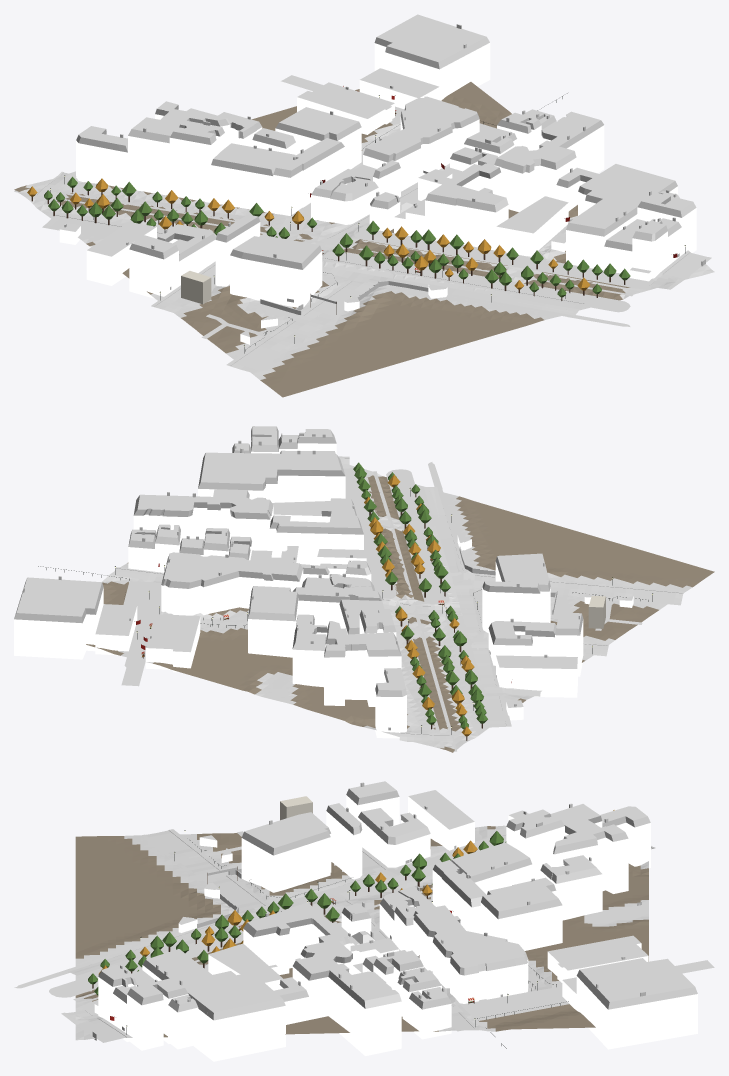
Rendered from zone_I1.glb.
3 renders of one model, top to bottom at view 1: azimuth 30°, elevation 25°; view 2: azimuth 150°, elevation 25°; view 3: azimuth 270°, elevation 25°, orthographic. The views are drawn at different scales.
Visible parts, largest first — view 1: zone_I1_batiments, zone_I1_terrain, zone_I1_sol_NOCOL, zone_I1_decor_NOCOL; view 2: zone_I1_batiments, zone_I1_terrain, zone_I1_sol_NOCOL, zone_I1_decor_NOCOL; view 3: zone_I1_batiments, zone_I1_terrain, zone_I1_sol_NOCOL, zone_I1_decor_NOCOL.
Boxes of the visible parts, left/top/right/bottom form: zone_I1_batiments: left=59, top=14, right=705, bottom=344; zone_I1_terrain: left=14, top=82, right=714, bottom=397; zone_I1_sol_NOCOL: left=14, top=75, right=711, bottom=373; zone_I1_decor_NOCOL: left=27, top=93, right=685, bottom=353; zone_I1_batiments: left=14, top=426, right=633, bottom=738; zone_I1_terrain: left=86, top=462, right=714, bottom=752; zone_I1_sol_NOCOL: left=113, top=456, right=683, bottom=751; zone_I1_decor_NOCOL: left=38, top=462, right=652, bottom=740; zone_I1_batiments: left=92, top=781, right=697, bottom=1061; zone_I1_terrain: left=75, top=825, right=648, bottom=1040; zone_I1_sol_NOCOL: left=14, top=829, right=714, bottom=1042; zone_I1_decor_NOCOL: left=88, top=810, right=614, bottom=1048.
Bounding box in the file's own units: 237 × 36.15 × 260.
